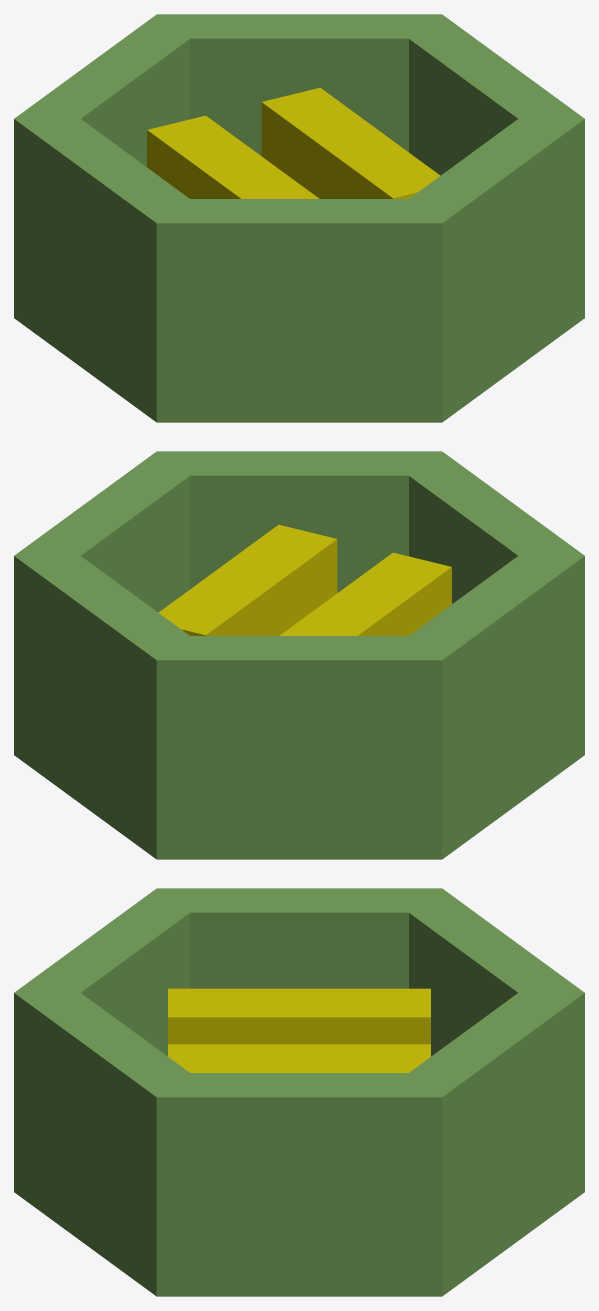
The model's file is pause-button.dae.
3 views of the same model, one above another, from view 1: azimuth 30°, elevation 25°; view 2: azimuth 150°, elevation 25°; view 3: azimuth 270°, elevation 25° (orthographic).
Parts seen in each view (by area): view 1: pause-button; view 2: pause-button; view 3: pause-button.
Boxes of the visible parts, x1,y1,x2,y2 form: pause-button: (14,14,584,422); pause-button: (14,451,584,859); pause-button: (14,888,584,1296).
Bounding box in the file's own units: 2.26 × 2.61 × 1.
